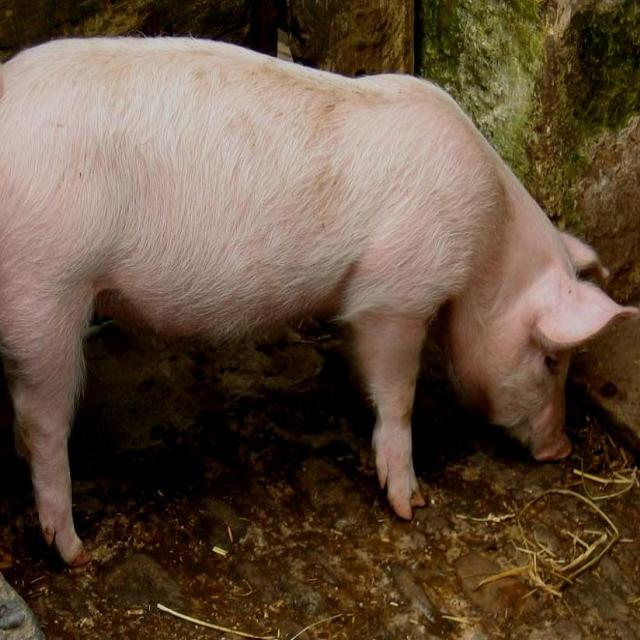pig: (0, 38, 630, 565)
